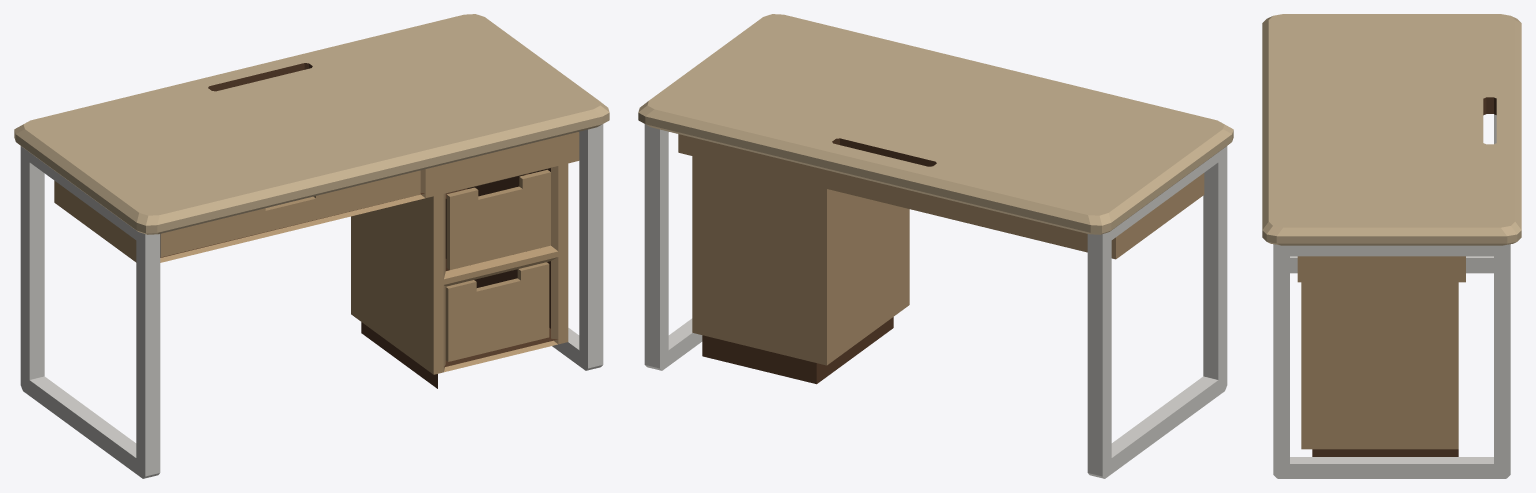
The model's file is desk.glb.
3 renders of one model, left to right at view 1: azimuth 30°, elevation 25°; view 2: azimuth 150°, elevation 25°; view 3: azimuth 270°, elevation 25°, orthographic. The views are drawn at different scales.
Parts seen in each view (by area): view 1: object 4, object 2, object 3, drawer; view 2: object 4; view 3: object 4.
Part boxes in pixels (box(x1,y1,x2,y2)): object 4: box(14, 14, 609, 478); object 2: box(445, 169, 550, 269); object 3: box(445, 262, 549, 361); drawer: box(160, 170, 420, 257); object 4: box(638, 14, 1233, 478); object 4: box(1262, 14, 1521, 478).
Bounding box in the file's own units: 1.4 × 0.75 × 0.7.
